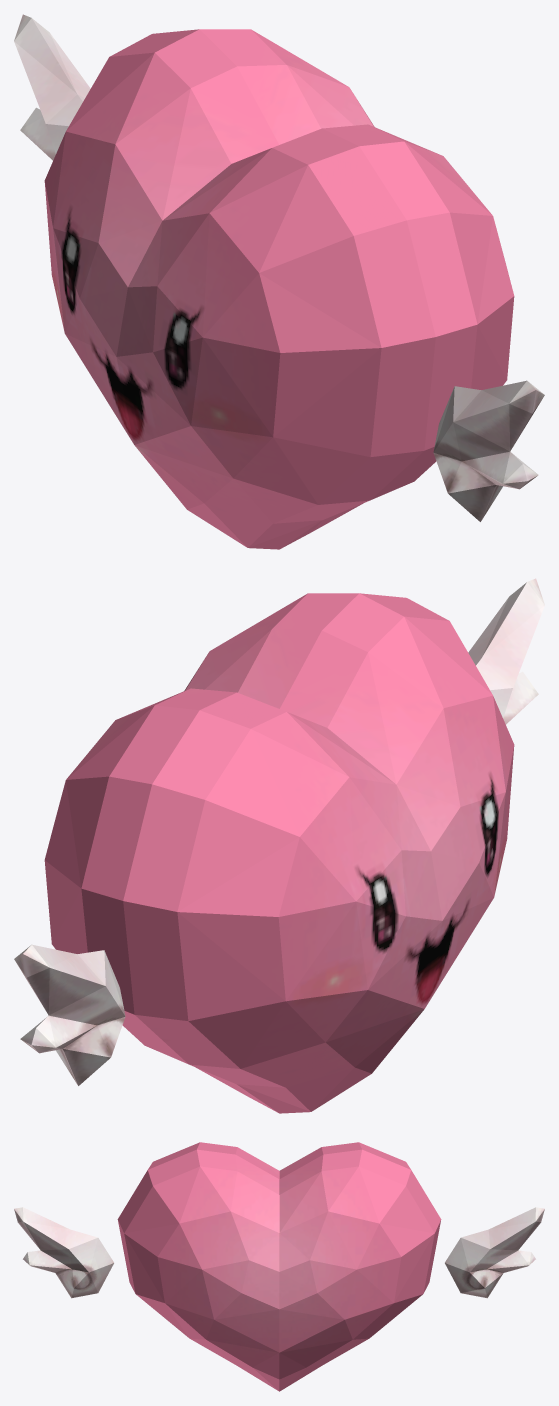
The model's file is Monkey_heartMike.obj.
3 views of the same model, one above another, from view 1: azimuth 30°, elevation 25°; view 2: azimuth 150°, elevation 25°; view 3: azimuth 270°, elevation 25° (orthographic). The views are drawn at different scales.
Visible parts, largest first — view 1: Monkey_heartMike_tri; view 2: Monkey_heartMike_tri; view 3: Monkey_heartMike_tri.
Boxes of the visible parts, bbox=[...] form: Monkey_heartMike_tri: bbox=[14, 14, 544, 549]; Monkey_heartMike_tri: bbox=[14, 578, 544, 1113]; Monkey_heartMike_tri: bbox=[14, 1142, 544, 1391].
Size of the model in its own units: 0.1569 by 0.2123 by 0.4276.
1 material, 1 textured.
